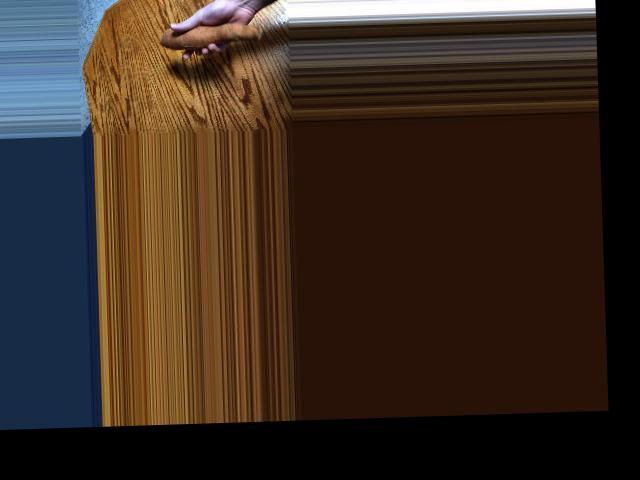sweet_potato: (150, 10, 266, 53)
